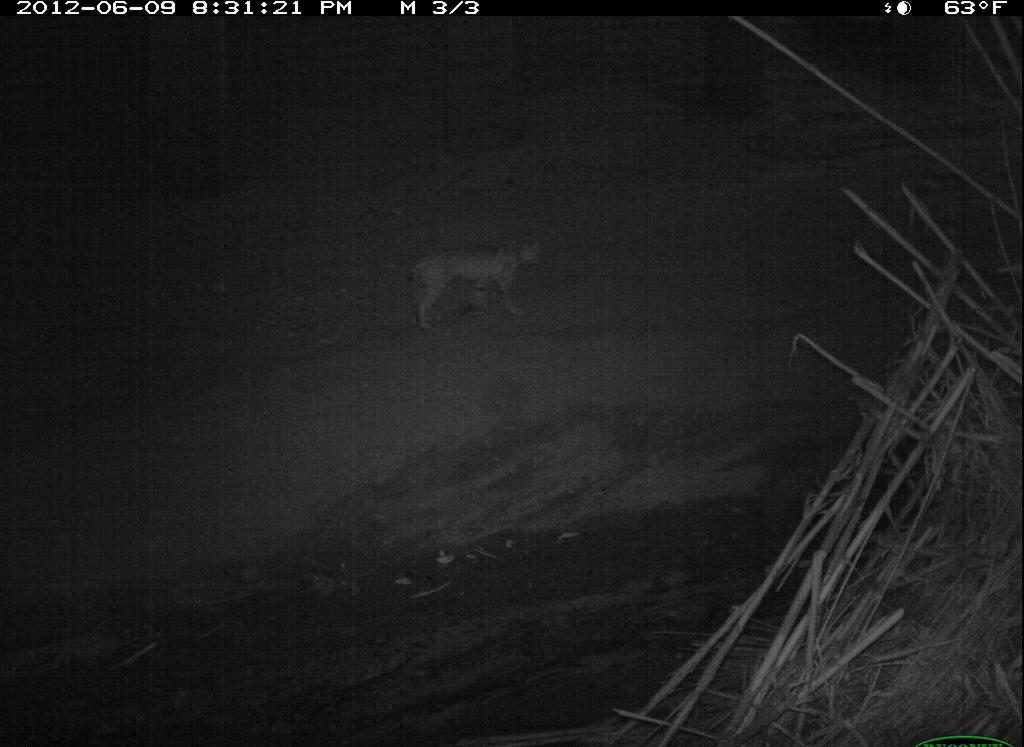bobcat: (408, 231, 550, 337)
